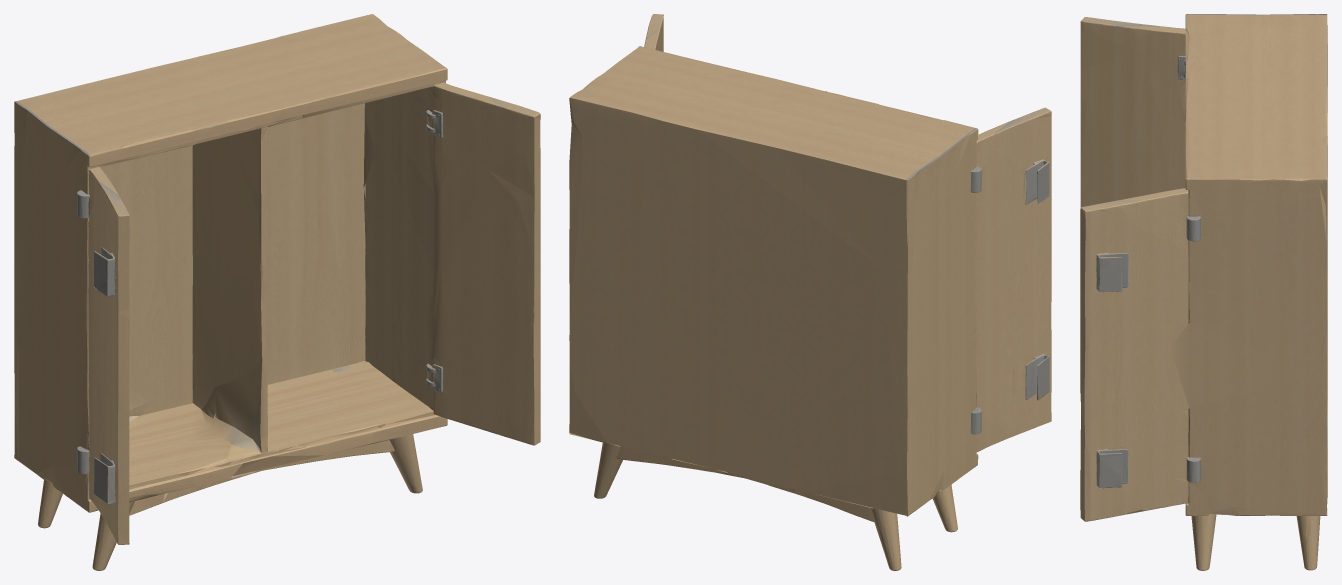
The picture shows the model from 3 angles, left to right: view 1: azimuth 30°, elevation 25°; view 2: azimuth 150°, elevation 25°; view 3: azimuth 270°, elevation 25°; orthographic projection. The views are drawn at different scales.
Size of the model in its own units: 1.89 by 1.78 by 0.9968.
Materials: 1 (1 with a texture image).
